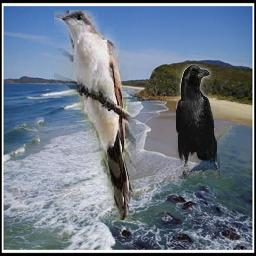Crow: (176, 65, 220, 180)
Cuckoo: (54, 10, 136, 222)
